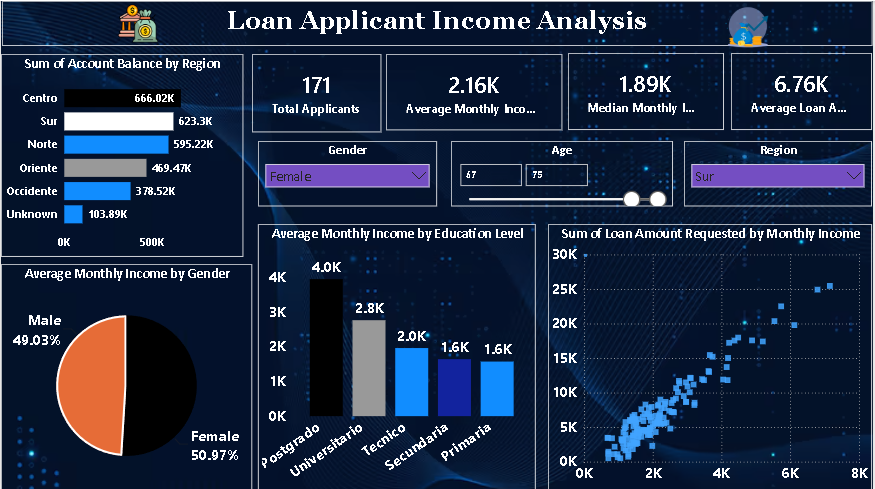

This screenshot's page, from the dashboard's own definition file:
{"tool":"powerbi","page":{"name":"Page 1","canvas":[1280,720],"ordinal":0},"visuals":[{"type":"cardVisual","fields":{"Data":["datos_faltantes_banca.Total Applicants"]},"box":[368.8,77.9,189.6,114.6],"z":0},{"type":"cardVisual","fields":{"Data":["datos_faltantes_banca.Average Monthly Income"]},"box":[565.7,77.9,258.6,111.7],"z":1000},{"type":"cardVisual","fields":{"Data":["datos_faltantes_banca.Median Monthly Income"]},"box":[833.1,76.4,229.2,113.1],"z":2000},{"type":"cardVisual","fields":{"Data":["datos_faltantes_banca.Average Loan Amount"]},"box":[1072.7,76.4,207.2,113.1],"z":3000},{"type":"columnChart","fields":{"Category":["datos_faltantes_banca.Education Level"],"Y":["datos_faltantes_banca.Average Monthly Income"]},"box":[377.6,327.7,408.5,392.3],"z":4000},{"type":"scatterChart","fields":{"X":["datos_faltantes_banca.Monthly Income"],"Y":["Sum(datos_faltantes_banca.Loan Amount Requested)"]},"box":[803.8,327.7,476.1,392.3],"z":6000},{"type":"pieChart","fields":{"Category":["datos_faltantes_banca.Gender"],"Y":["datos_faltantes_banca.Average Monthly Income"]},"box":[0,386.4,368.8,333.6],"z":7000},{"type":"slicer","title":"Region","fields":{"Values":["datos_faltantes_banca.Region"]},"box":[1003.6,205.7,276.2,95.5],"z":8000},{"type":"slicer","title":"Age","fields":{"Values":["datos_faltantes_banca.Age"]},"box":[661.2,205.7,326.2,95.5],"z":8001},{"type":"barChart","fields":{"Category":["datos_faltantes_banca.Region"],"Y":["Sum(datos_faltantes_banca.Account Balance)"]},"box":[0,77.9,355.6,298.3],"z":8002},{"type":"slicer","title":"Gender","fields":{"Values":["datos_faltantes_banca.Gender"]},"box":[377.6,205.7,263,95.5],"z":8003},{"type":"textbox","box":[1.5,0,1278.7,65.7],"z":8004},{"type":"image","box":[98.4,0,205.7,66.1],"z":8005},{"type":"image","box":[987.5,0,220.5,76.8],"z":8006}]}

Visuals, with their boxes in screenshot pixels (x1, y1, x2, y2), scaled from the page's 1280x720 canvas onto the 875x489 screenshot:
cardVisual - datos_faltantes_banca.Total Applicants: <bbox>252, 53, 382, 131</bbox>
cardVisual - datos_faltantes_banca.Average Monthly Income: <bbox>387, 53, 563, 129</bbox>
cardVisual - datos_faltantes_banca.Median Monthly Income: <bbox>570, 52, 726, 129</bbox>
cardVisual - datos_faltantes_banca.Average Loan Amount: <bbox>733, 52, 874, 129</bbox>
columnChart - datos_faltantes_banca.Education Level x datos_faltantes_banca.Average Monthly Income: <bbox>258, 223, 537, 488</bbox>
scatterChart - datos_faltantes_banca.Monthly Income x Sum(datos_faltantes_banca.Loan Amount Requested): <bbox>549, 223, 874, 488</bbox>
pieChart - datos_faltantes_banca.Gender x datos_faltantes_banca.Average Monthly Income: <bbox>0, 262, 252, 488</bbox>
"Region" slicer: <bbox>686, 140, 874, 205</bbox>
"Age" slicer: <bbox>452, 140, 675, 205</bbox>
barChart - datos_faltantes_banca.Region x Sum(datos_faltantes_banca.Account Balance): <bbox>0, 53, 243, 256</bbox>
"Gender" slicer: <bbox>258, 140, 438, 205</bbox>
textbox: <bbox>1, 0, 874, 45</bbox>
image: <bbox>67, 0, 208, 45</bbox>
image: <bbox>675, 0, 826, 52</bbox>
